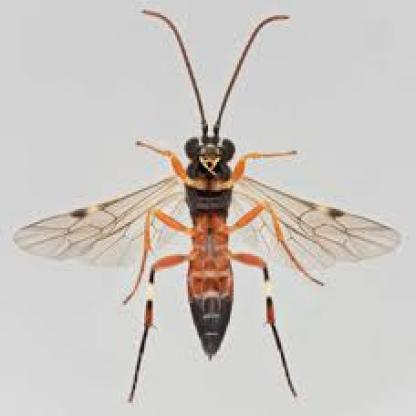sawfly: (14, 2, 399, 403)
